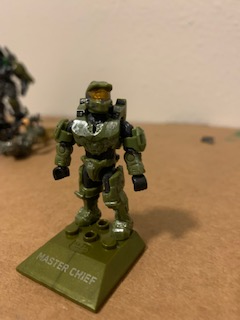chief: (53, 80, 149, 241)
spartan: (51, 78, 147, 239)
